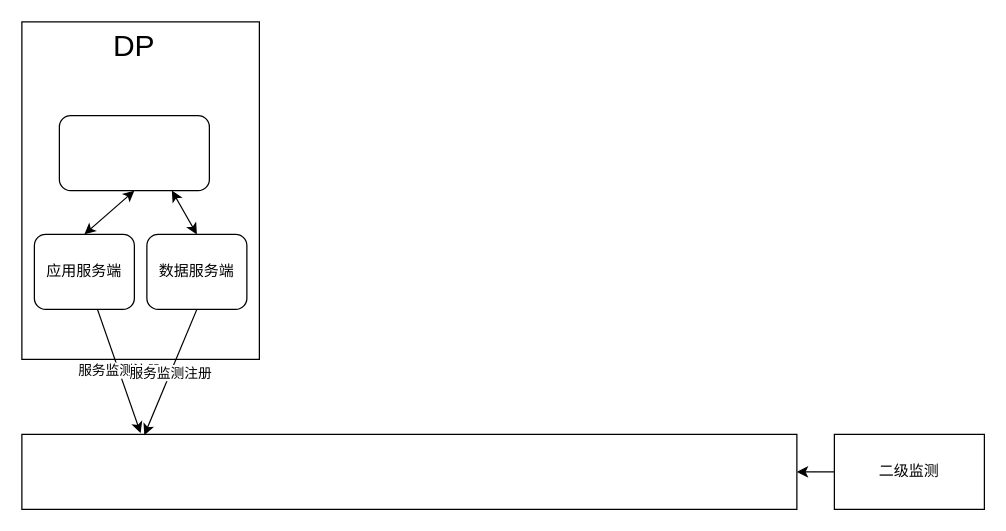
Image size: 1006x531. Some labels were removed from this diagram. The shapes that lost their labels are listed below. From the top down, each one's centre as x and y in pixels, then its label:
pixel 133 152: 应用端SLA
pixel 409 471: 服务监测应用
